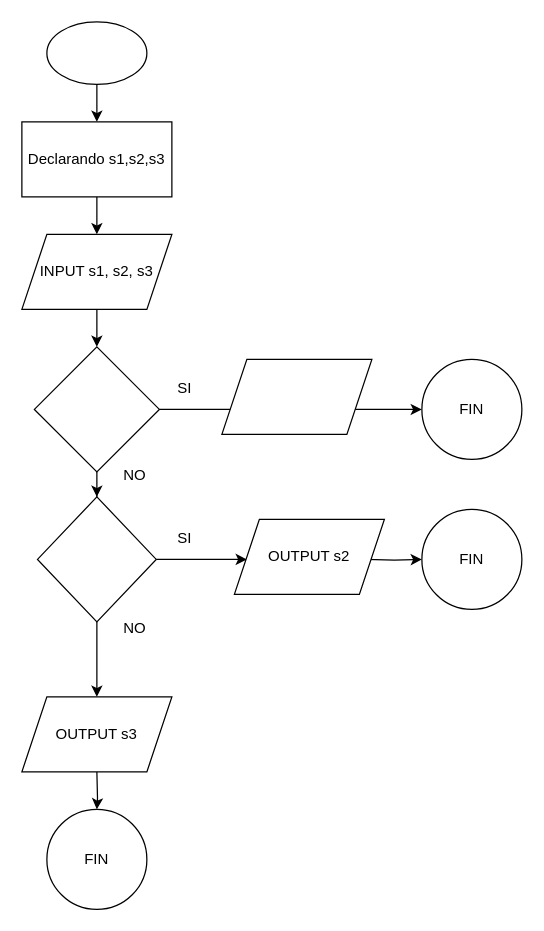
Image size: 544x931. Some labels were removed from this diagram. Here are the shapes that lost their labels. From the top down, the box of each, then its label:
(46, 21, 147, 84): Inicio
(33, 346, 159, 472): s1<= s2 s1<= s3
(221, 358, 372, 434): OUTPUT s1
(36, 496, 156, 622): s2<= s1 y s2<= s3
